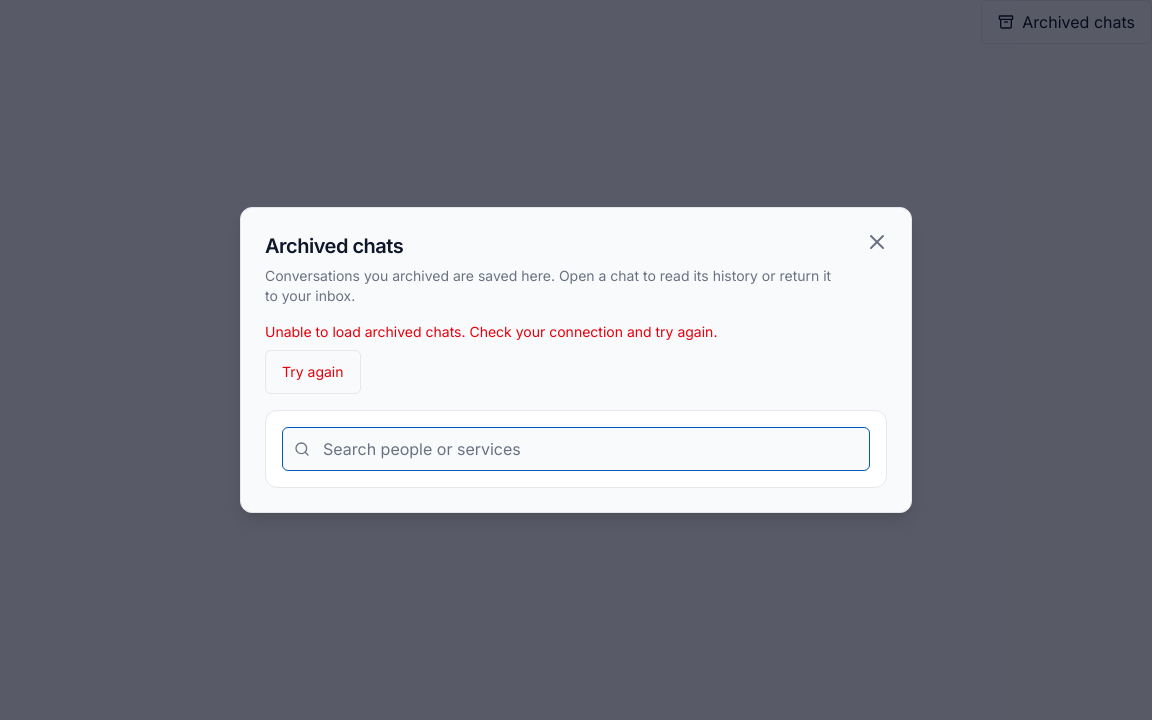
Test case: archived chats browser › recovers from loading errors
The width and height of the screenshot is (1152, 720).
Expected: the message shows "Unable to load archived chats", top-left (265, 323), bottom-right (717, 340)
Click the button "Try again": (313, 372) top-left (265, 350), bottom-right (360, 394)
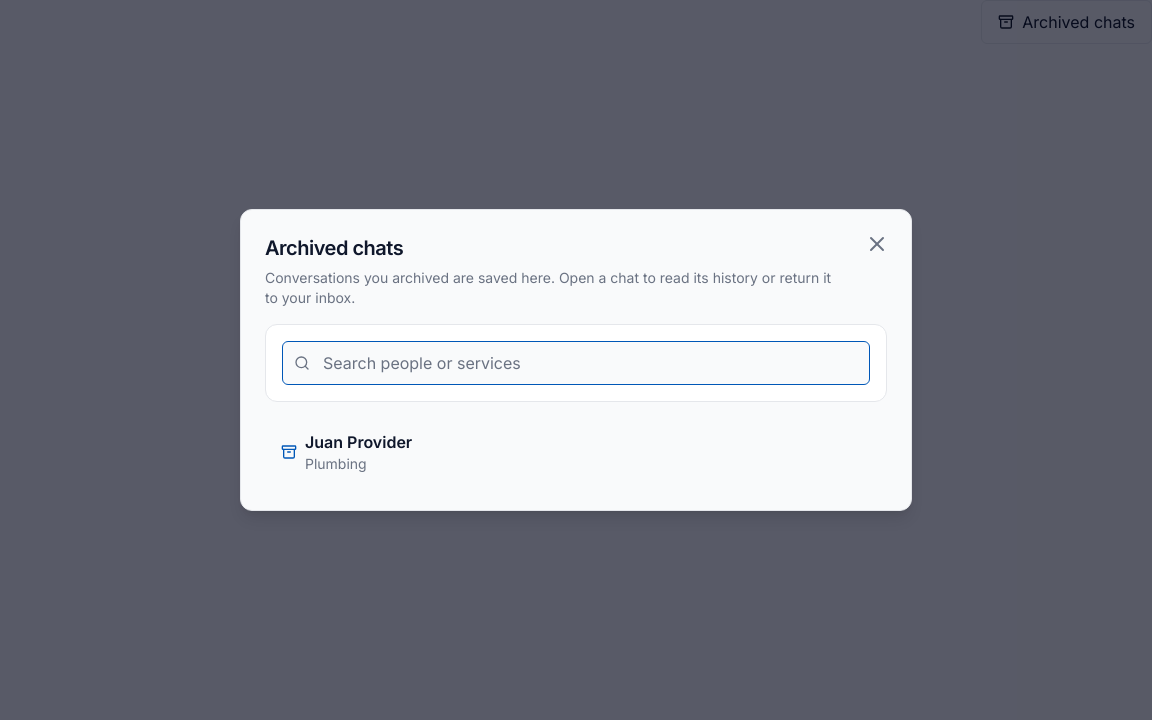
Now the button "Juan Provider Plumbing" is shown, box top-left (265, 418), bottom-right (887, 486)
